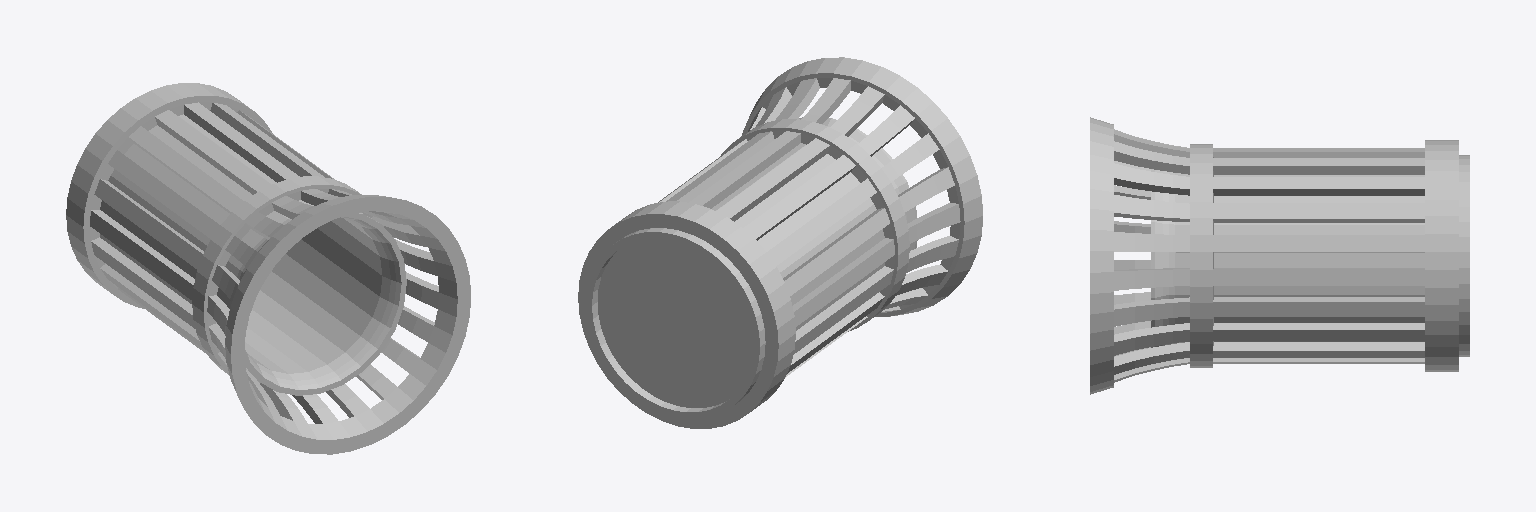
Rendered from trashcan_1.obj.
3 renders of one model, left to right at view 1: azimuth 30°, elevation 25°; view 2: azimuth 150°, elevation 25°; view 3: azimuth 270°, elevation 25°, orthographic.
Parts seen in each view (by area): view 1: trashcan; view 2: trashcan; view 3: trashcan.
Part boxes in pixels (bbox=[...]): trashcan: bbox=[66, 83, 470, 454]; trashcan: bbox=[578, 57, 982, 428]; trashcan: bbox=[1090, 117, 1469, 394].
Size of the model in its own units: 3.57 by 3.57 by 4.88.